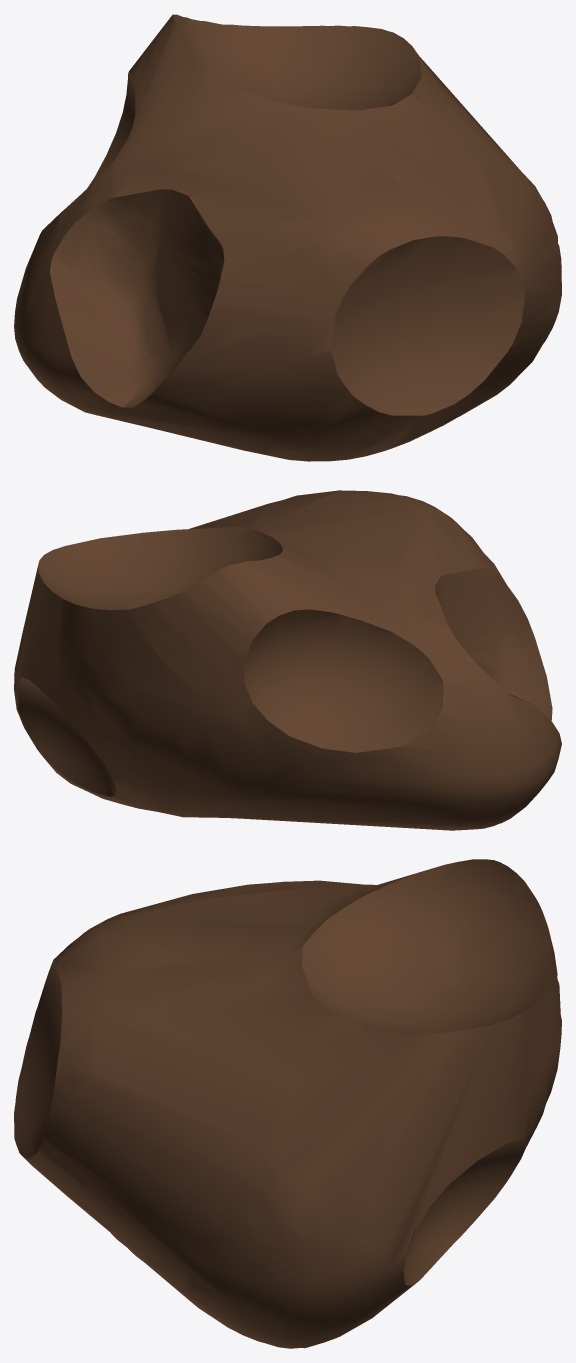
Rendered from Assteroid 5.fbx.
3 renders of one model, top to bottom at view 1: azimuth 30°, elevation 25°; view 2: azimuth 150°, elevation 25°; view 3: azimuth 270°, elevation 25°, orthographic. The views are drawn at different scales.
Parts seen in each view (by area): view 1: rock.007; view 2: rock.007; view 3: rock.007.
Boxes of the visible parts, x1=… form: rock.007: x1=14, y1=14, x2=561, y2=461; rock.007: x1=14, y1=490, x2=561, y2=830; rock.007: x1=14, y1=859, x2=561, y2=1348.
Size of the model in its own units: 160 by 103 by 136.
